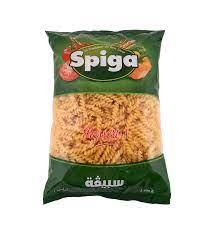Ressort: (42, 31, 172, 205)
